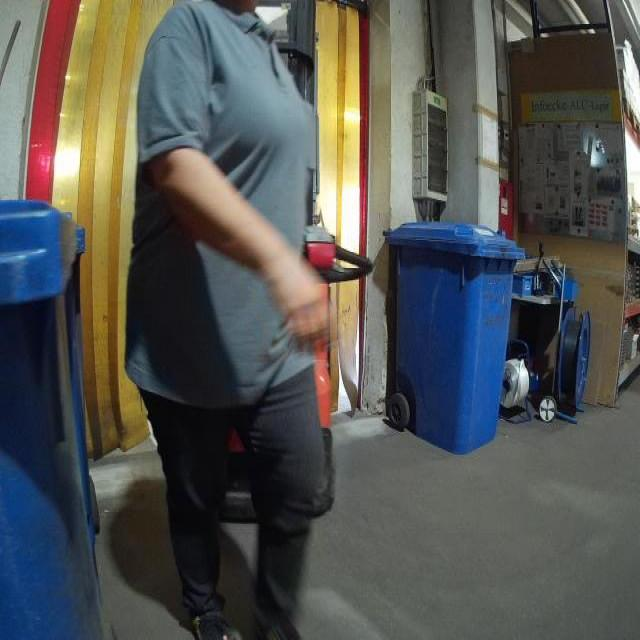pallet: (620, 99, 640, 133)
pallet_truck: (162, 1, 372, 524)
